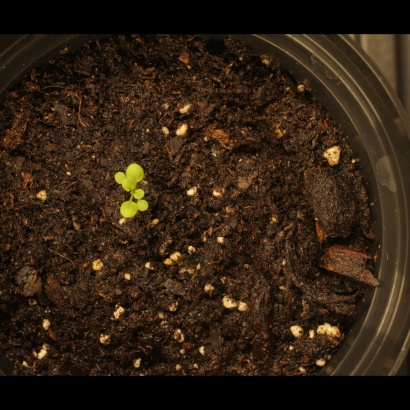leaf: (115, 201, 138, 224), (138, 201, 161, 224), (125, 160, 148, 183), (105, 162, 128, 185), (114, 172, 137, 195), (130, 185, 153, 208)
